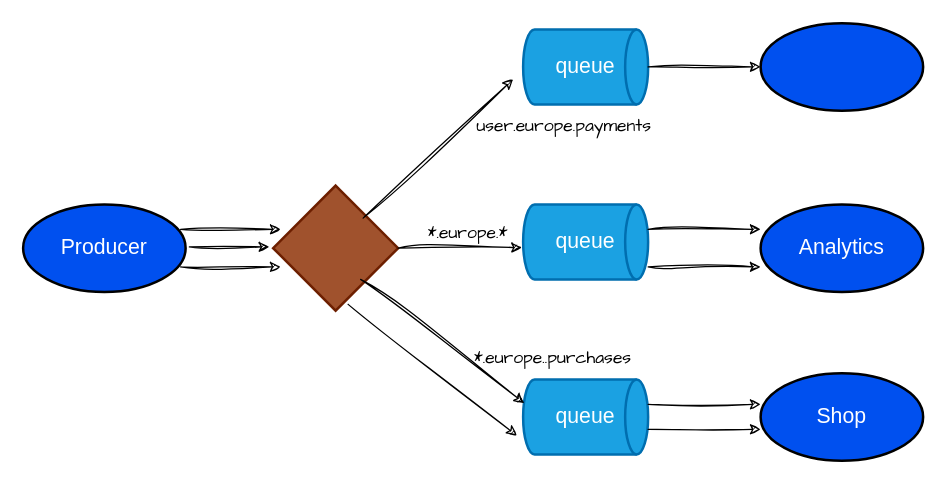
Some shapes in this 945 by 483 pixel diagram are drawn without their labels. Each missing label, with the centre of its shape:
"Payments" goes at point (841, 66).
"Topic Exchange" goes at point (335, 247).
